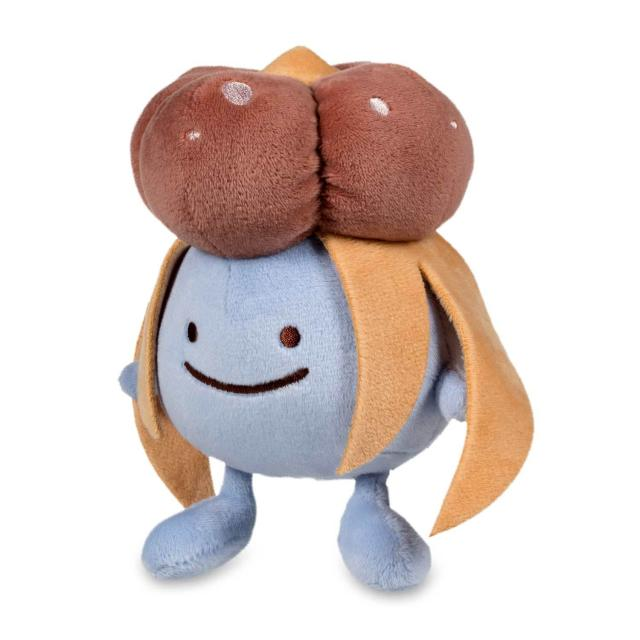Gloom: (96, 33, 548, 603)
